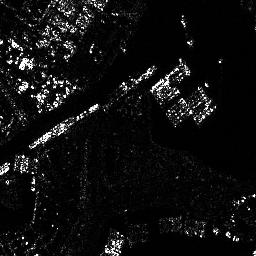ship: (179, 13, 194, 46)
